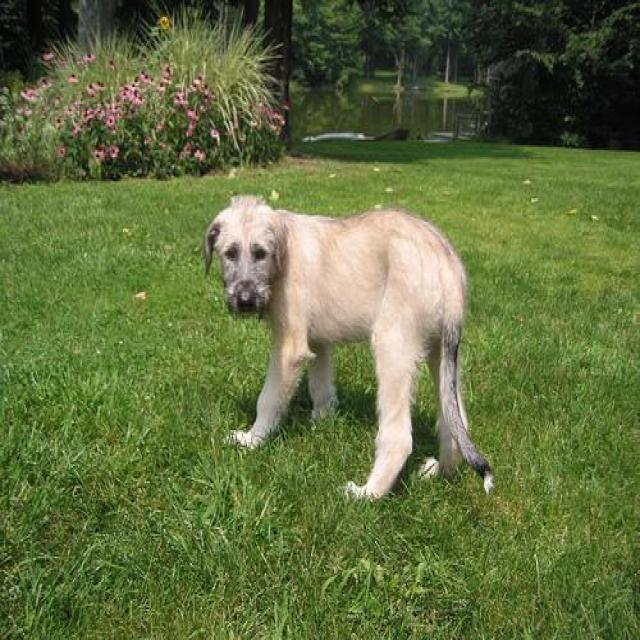irish_wolfhound: (202, 193, 496, 503)
